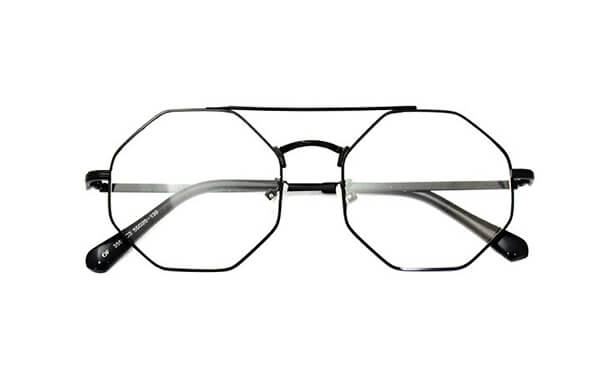glass: (67, 90, 549, 297)
